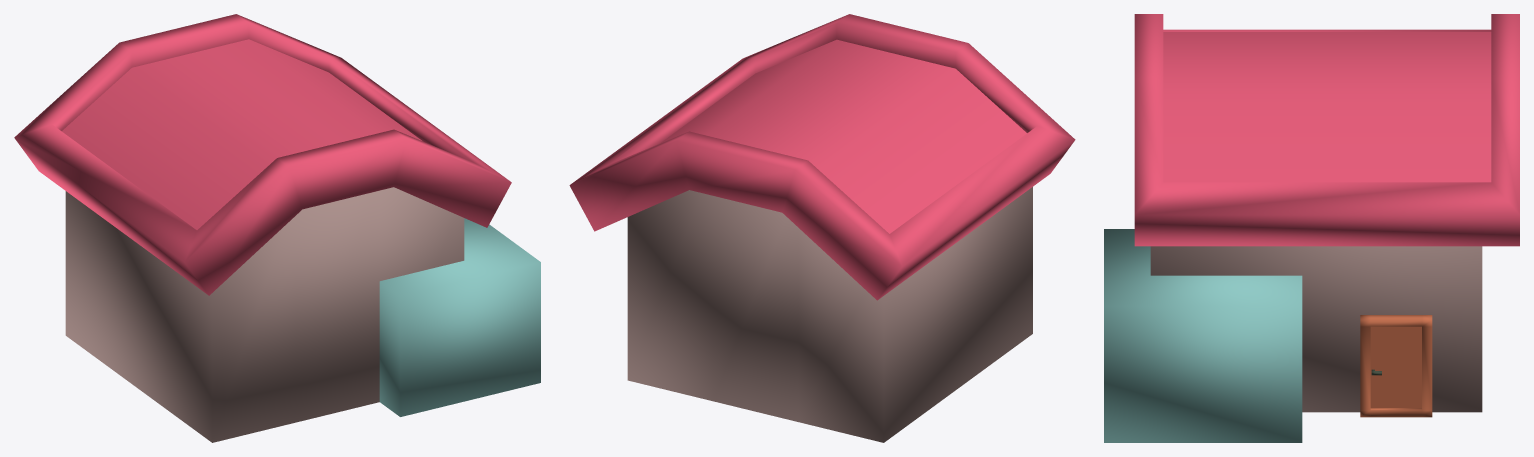
File: Maison1.fbx
3 views of the same model, side by side, from view 1: azimuth 30°, elevation 25°; view 2: azimuth 150°, elevation 25°; view 3: azimuth 270°, elevation 25° (orthographic). The views are drawn at different scales.
Parts seen in each view (by area): view 1: Maison1; view 2: Maison1; view 3: Maison1.
Boxes of the visible parts, x1,y1,x2,y2 form: Maison1: [14, 14, 540, 442]; Maison1: [569, 14, 1075, 442]; Maison1: [1104, 14, 1519, 442].
Size of the model in its own units: 2641 by 1942 by 2456.
